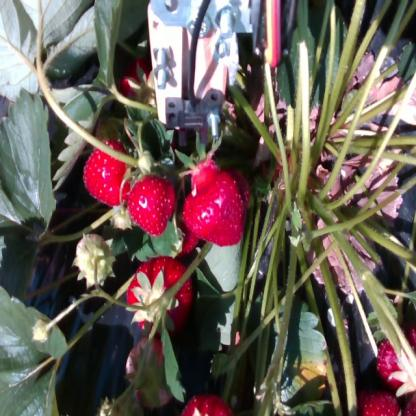ripe: (130, 258, 192, 334), (189, 162, 247, 242), (116, 330, 174, 408), (129, 172, 178, 230), (84, 136, 125, 202), (377, 332, 416, 389), (181, 391, 230, 416), (360, 392, 399, 416)
